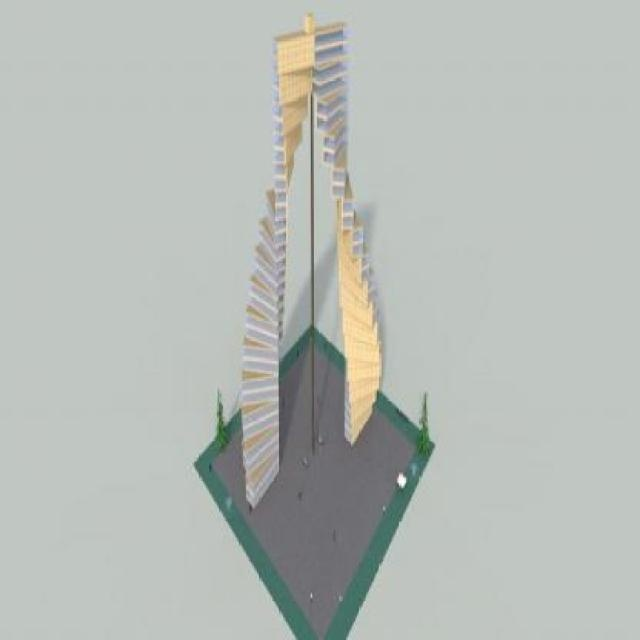stair: (241, 20, 314, 512), (311, 21, 383, 454)
